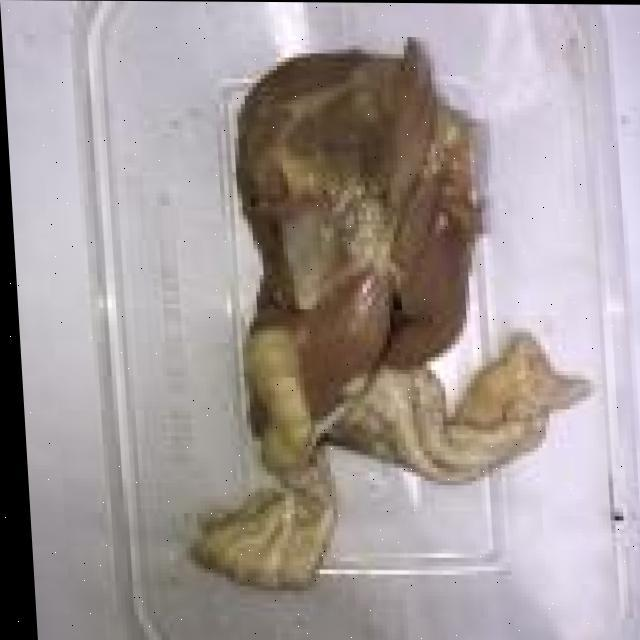breast: (202, 31, 496, 530)
